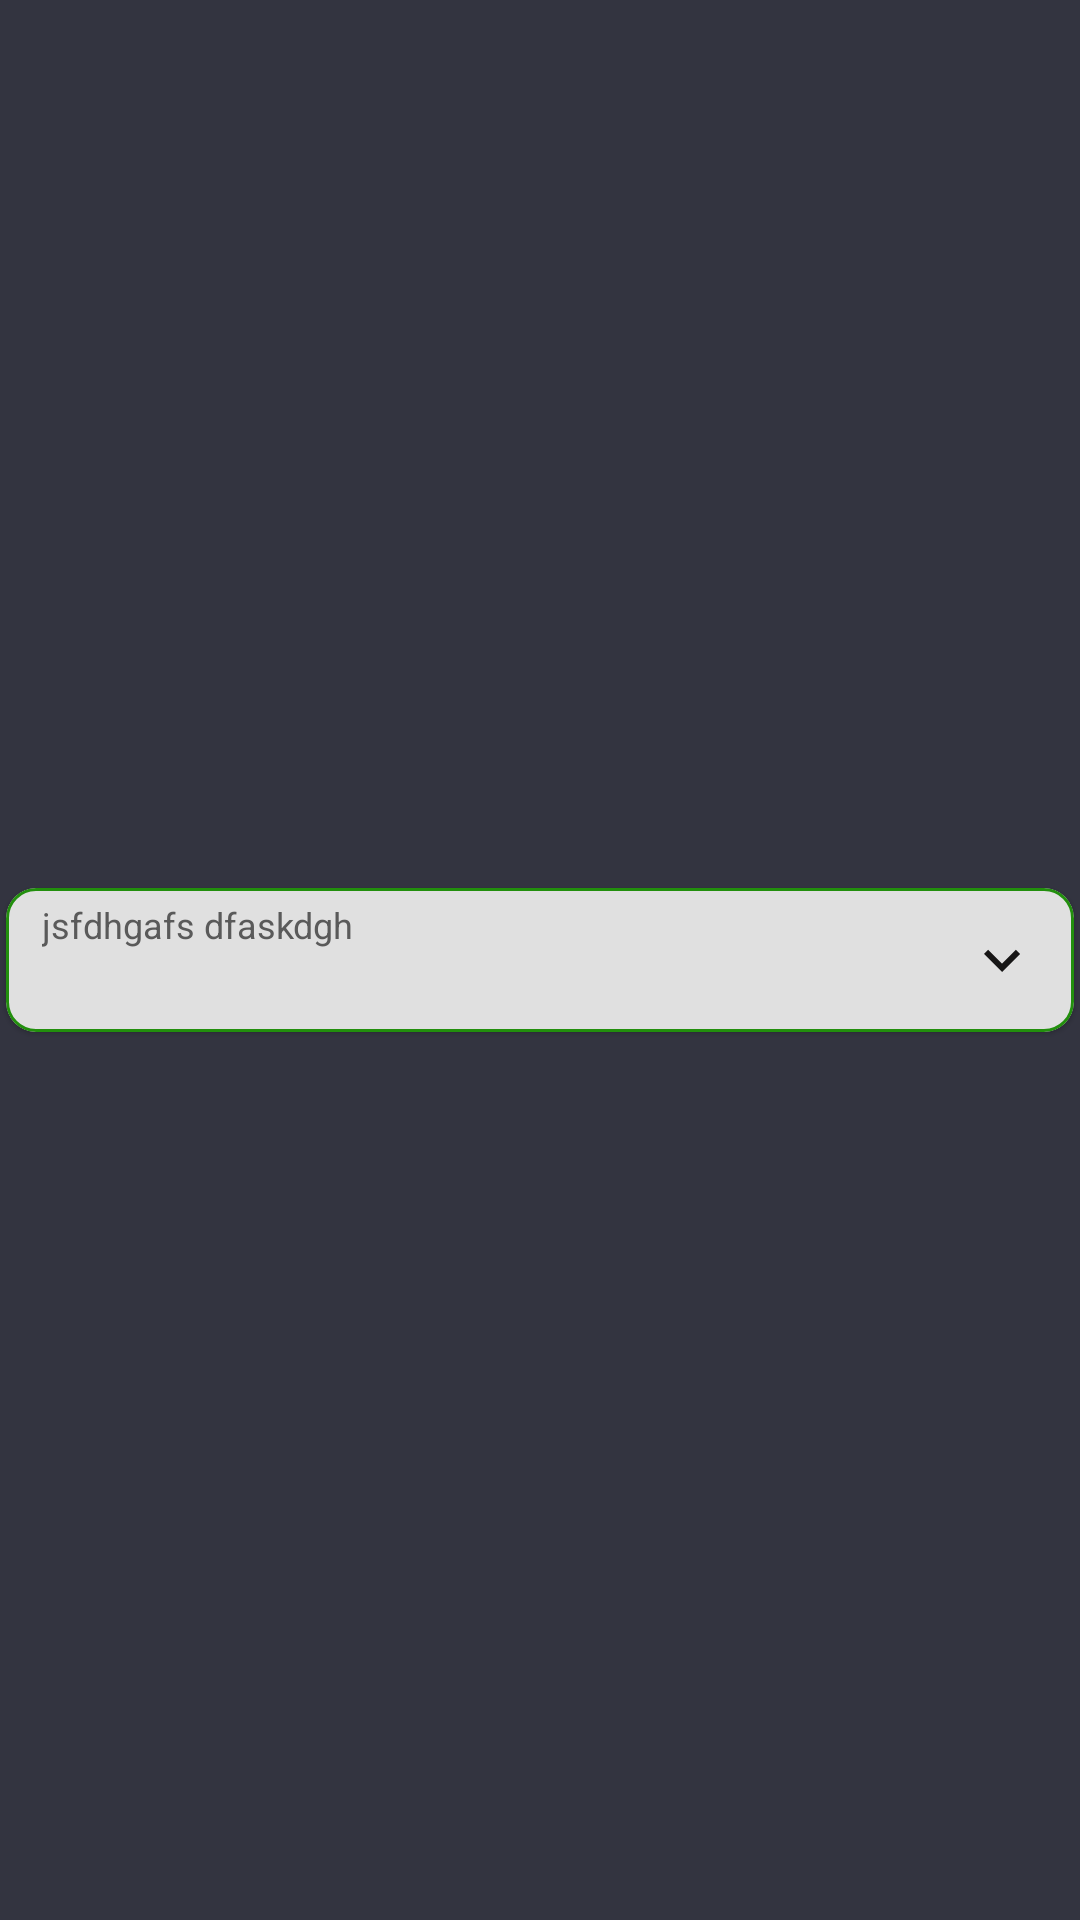

Where icons sit on this 1080px x 1920px app screen, as {"left": x1, "top": y1, "right": x2, "bottom": y2}:
keyboard arrow down: {"left": 984, "top": 950, "right": 1020, "bottom": 972}
